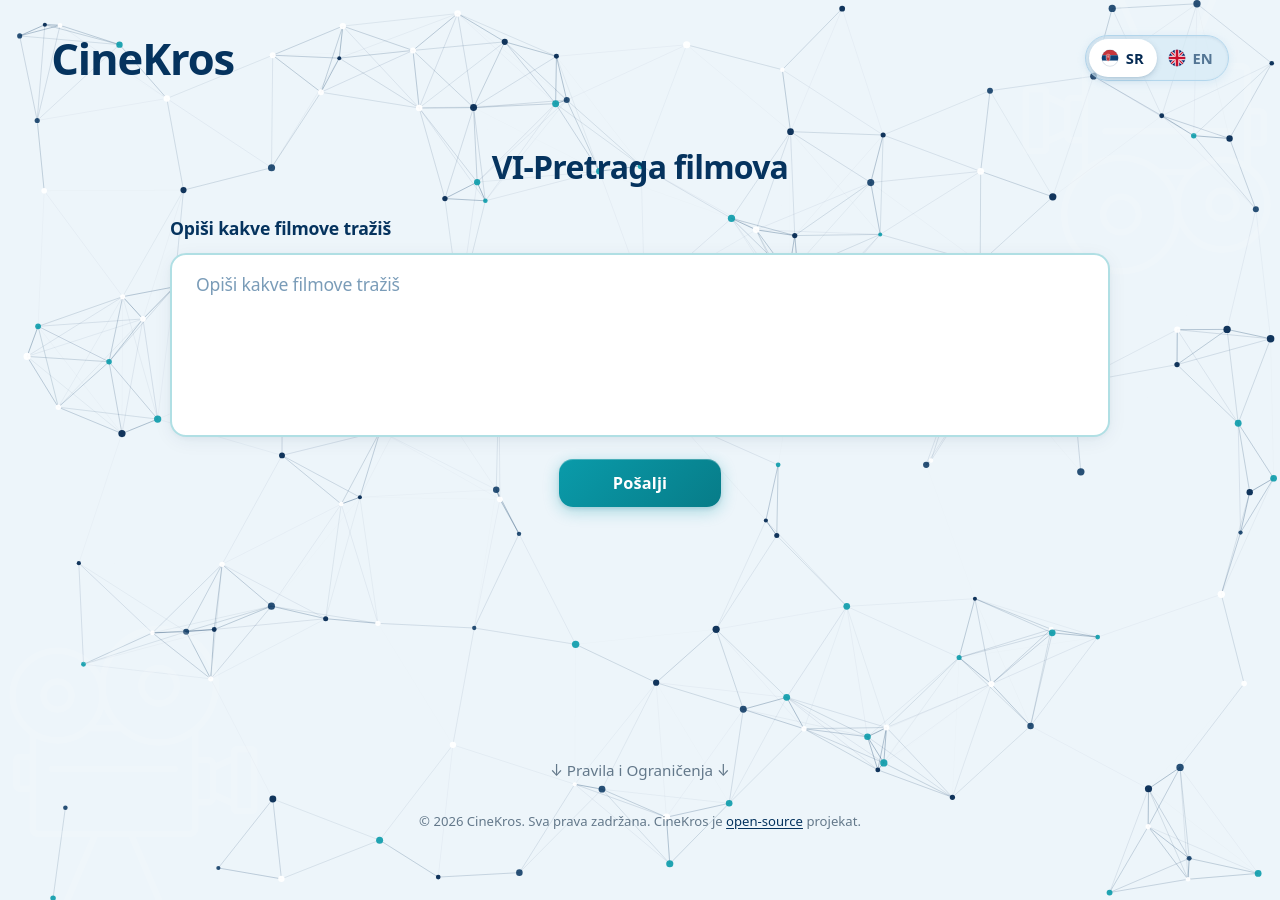
Test: v2 recommendation frontend › accepts business alert 200/NO_RESULTS only with its contract status and copy
Type "film" into the text box at (640, 345), box 170,253 -> 1110,437
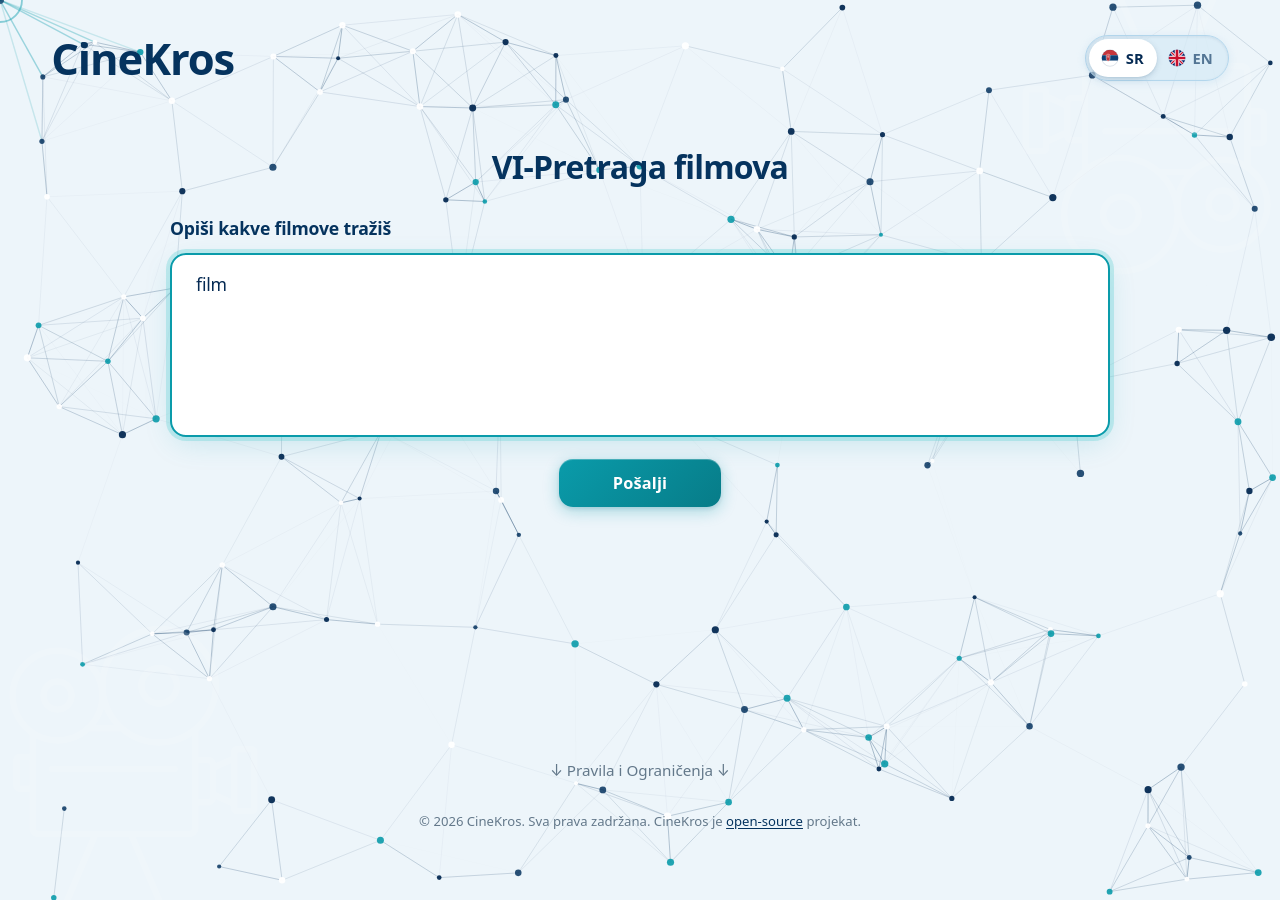
Click the button "Pošalji" at (640, 483), box 559,459 -> 721,507
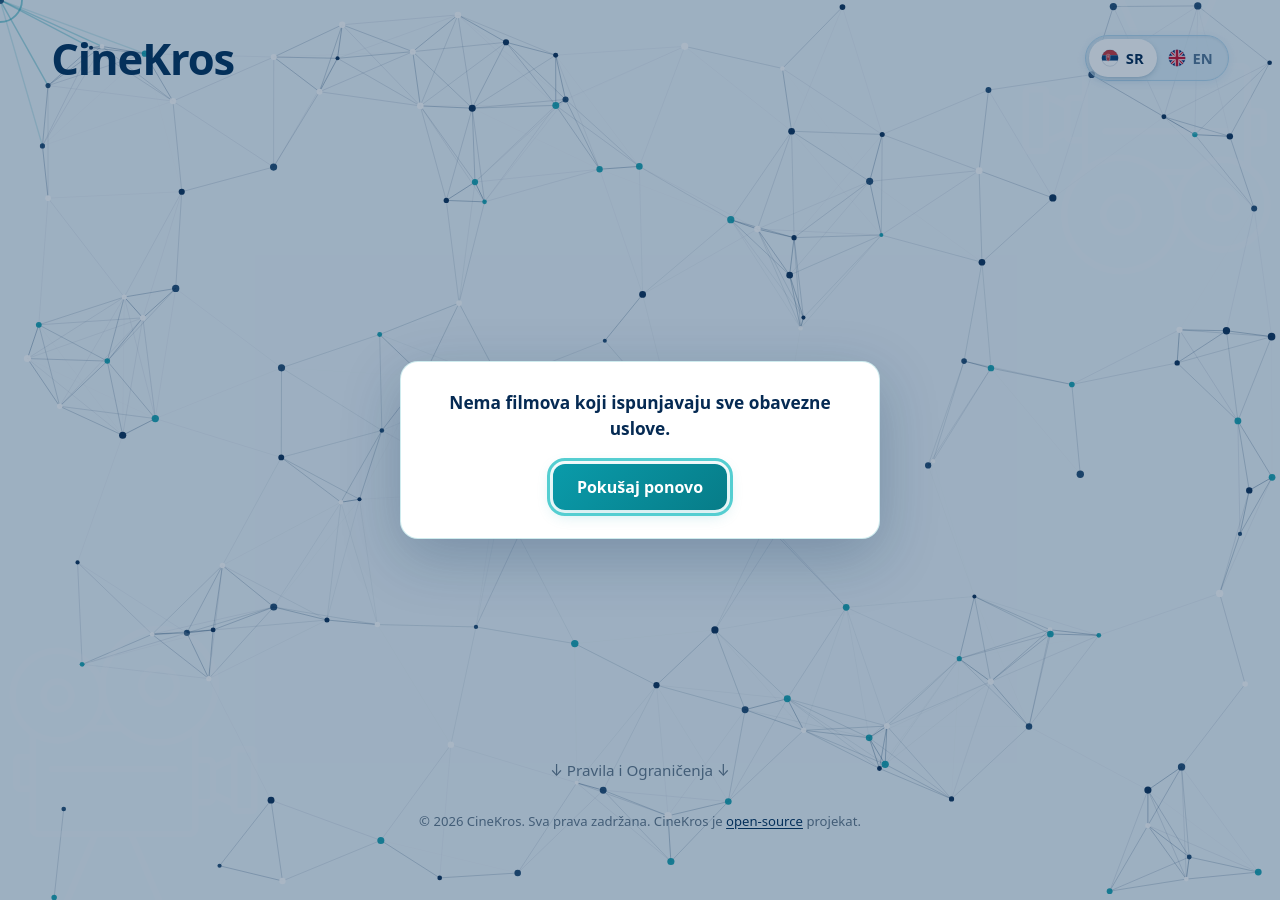
Expected: the dialog shows "Nema filmova koji ispunjavaju sve obavezne uslove.", 449,391 -> 831,440
